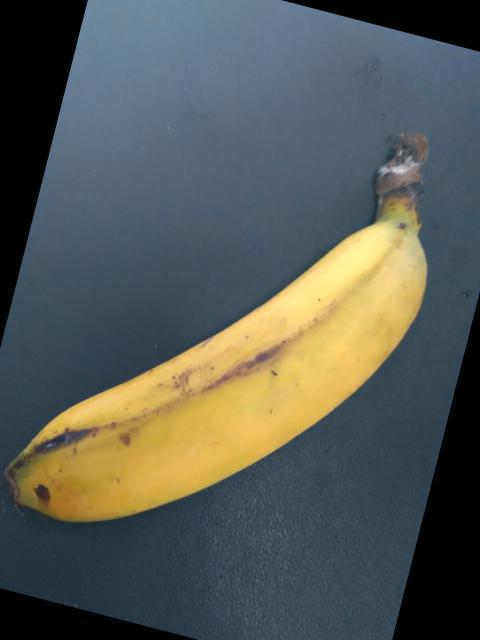freshripe: (0, 232, 430, 557)
